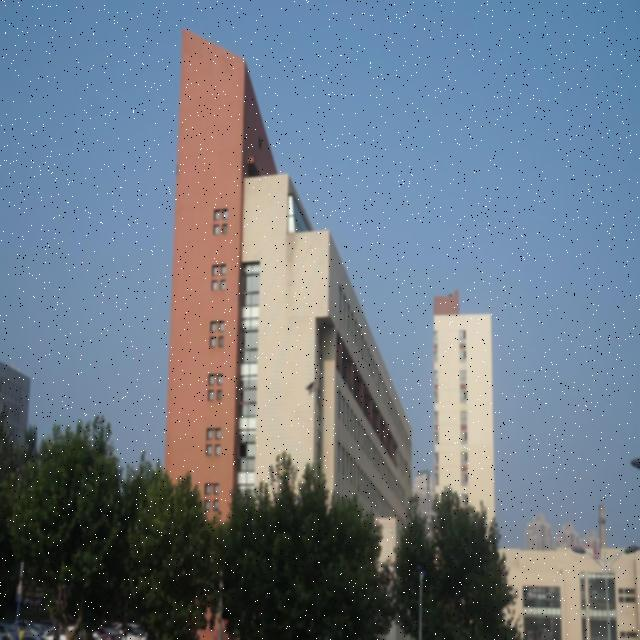UAV: (306, 382, 316, 395)
